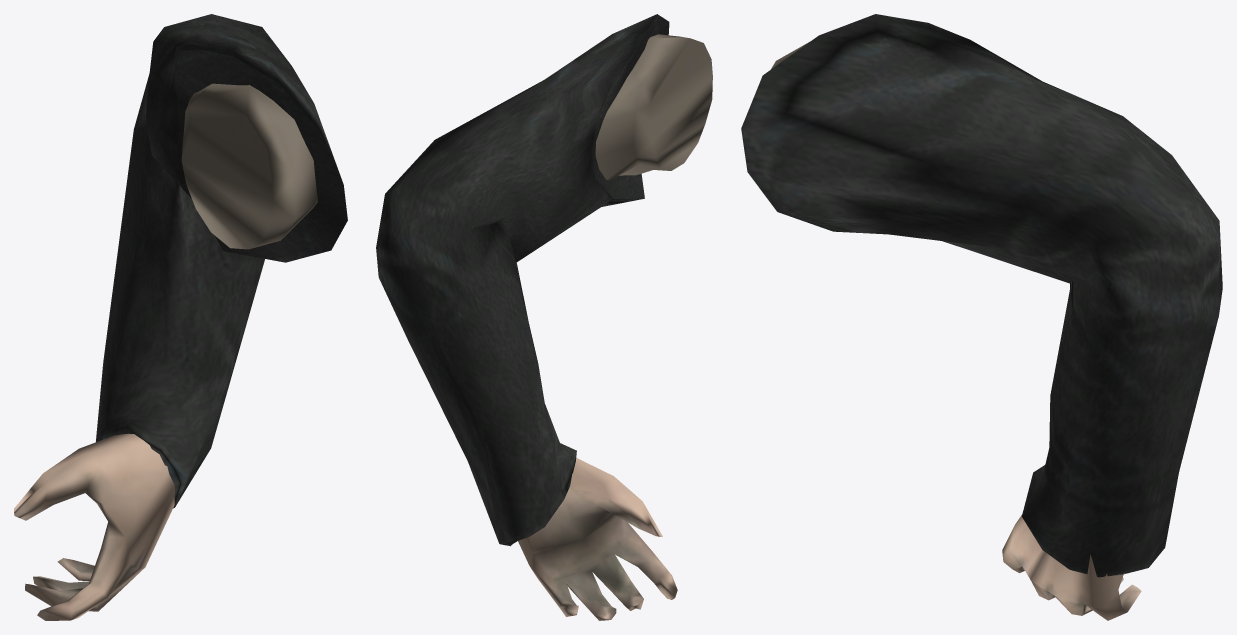
Rendered from dest_nt_nuked_male_03_arm_left_LOD1.obj.
The picture shows the model from 3 angles, left to right: view 1: azimuth 30°, elevation 25°; view 2: azimuth 150°, elevation 25°; view 3: azimuth 270°, elevation 25°; orthographic projection. The views are drawn at different scales.
Visible parts, largest first — view 1: mtl_nt_2020_manne_male01_jacket1, mtl_nt_2020_manne_male01_head1; view 2: mtl_nt_2020_manne_male01_jacket1, mtl_nt_2020_manne_male01_head1; view 3: mtl_nt_2020_manne_male01_jacket1, mtl_nt_2020_manne_male01_head1.
Part boxes in pixels (box(x1,y1,x2,y2)): mtl_nt_2020_manne_male01_jacket1: box(96, 14, 347, 508); mtl_nt_2020_manne_male01_head1: box(14, 83, 317, 620); mtl_nt_2020_manne_male01_jacket1: box(376, 14, 669, 546); mtl_nt_2020_manne_male01_head1: box(518, 34, 712, 620); mtl_nt_2020_manne_male01_jacket1: box(741, 14, 1222, 577); mtl_nt_2020_manne_male01_head1: box(771, 42, 1141, 620).
Bounding box in the file's own units: 26.53 × 52.27 × 36.97.
